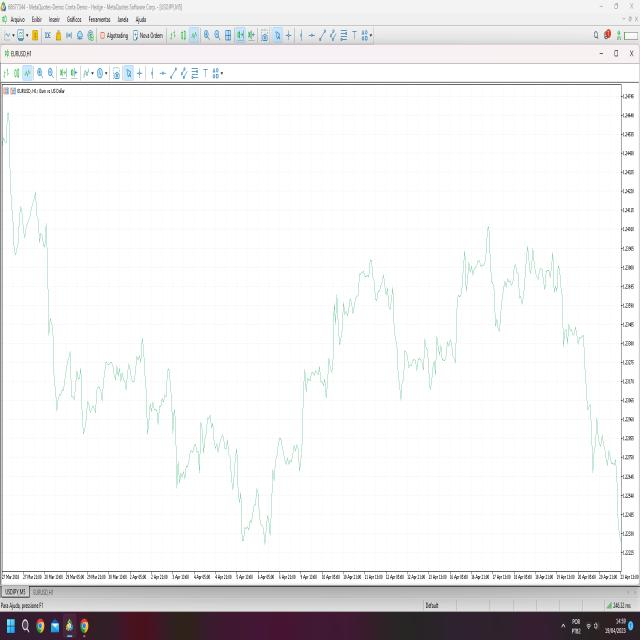bandeira_alta: (300, 348, 328, 483)
bandeira_baixa: (167, 359, 203, 496), (556, 253, 589, 357)
fundo_duplo: (236, 432, 284, 551)
